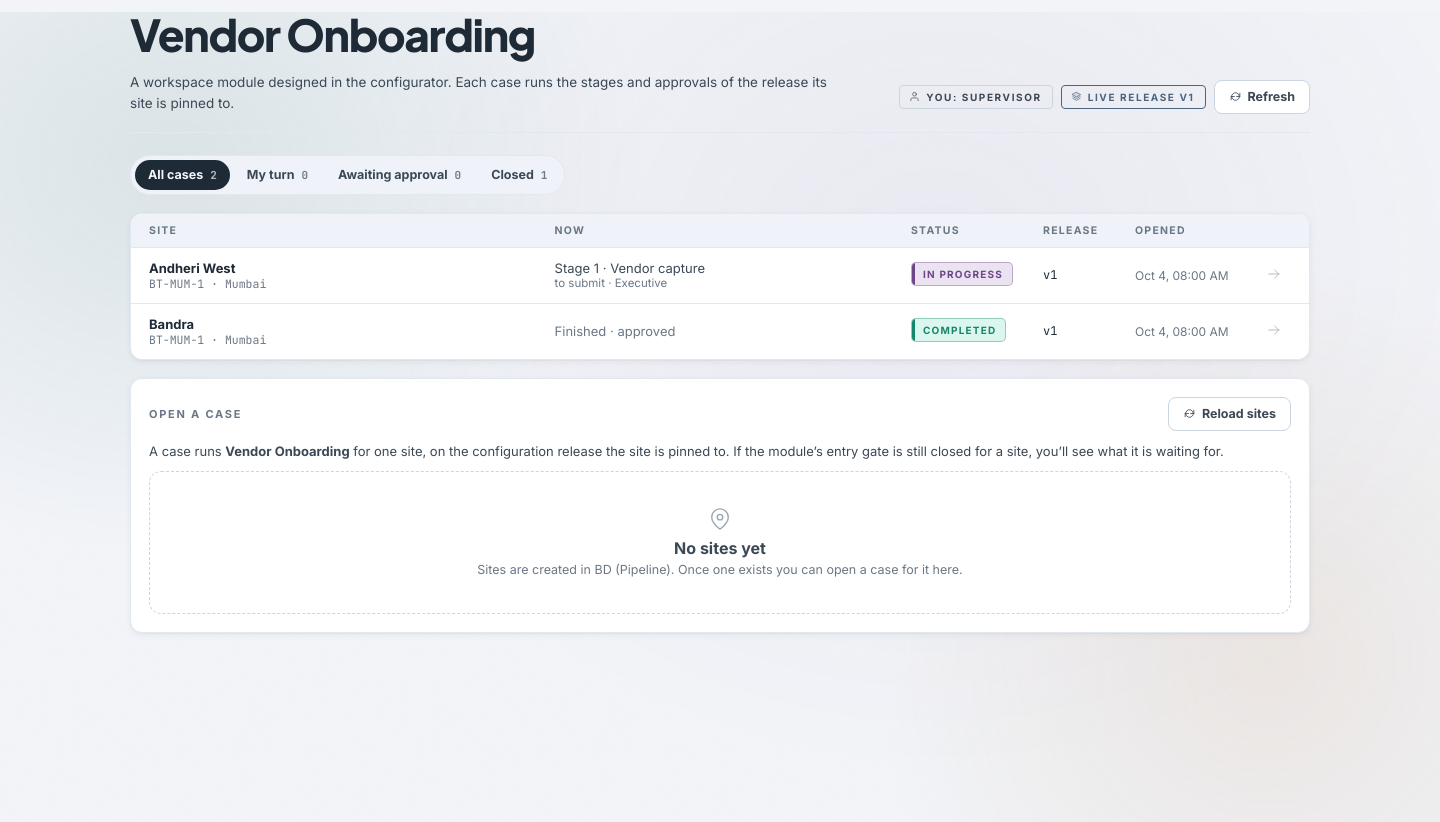
Test: GenericModulePage › lists cases and filters by the sidebar views
Expected: the heading "Vendor Onboarding" is shown, [130,12,535,62]
Expected: the text "Andheri West" is shown, [149,260,235,276]
Click the tab "Closed 1". click: {"x": 519, "y": 175}
box: [478,160,560,190]
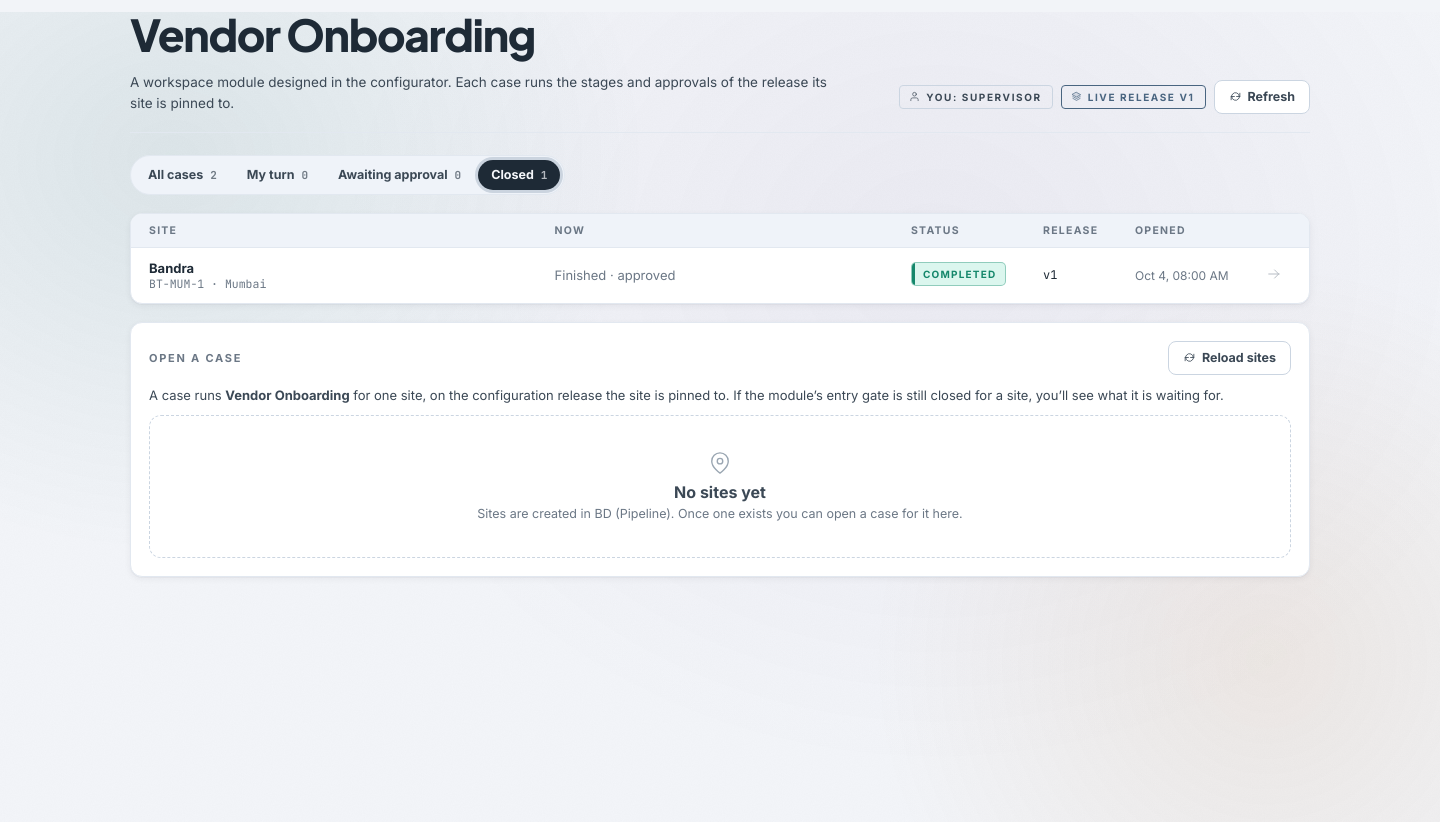
Expected: the text "Andheri West" is gone
